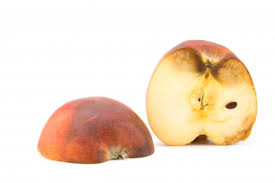damaged_apple: (149, 45, 259, 145), (38, 96, 155, 164)
